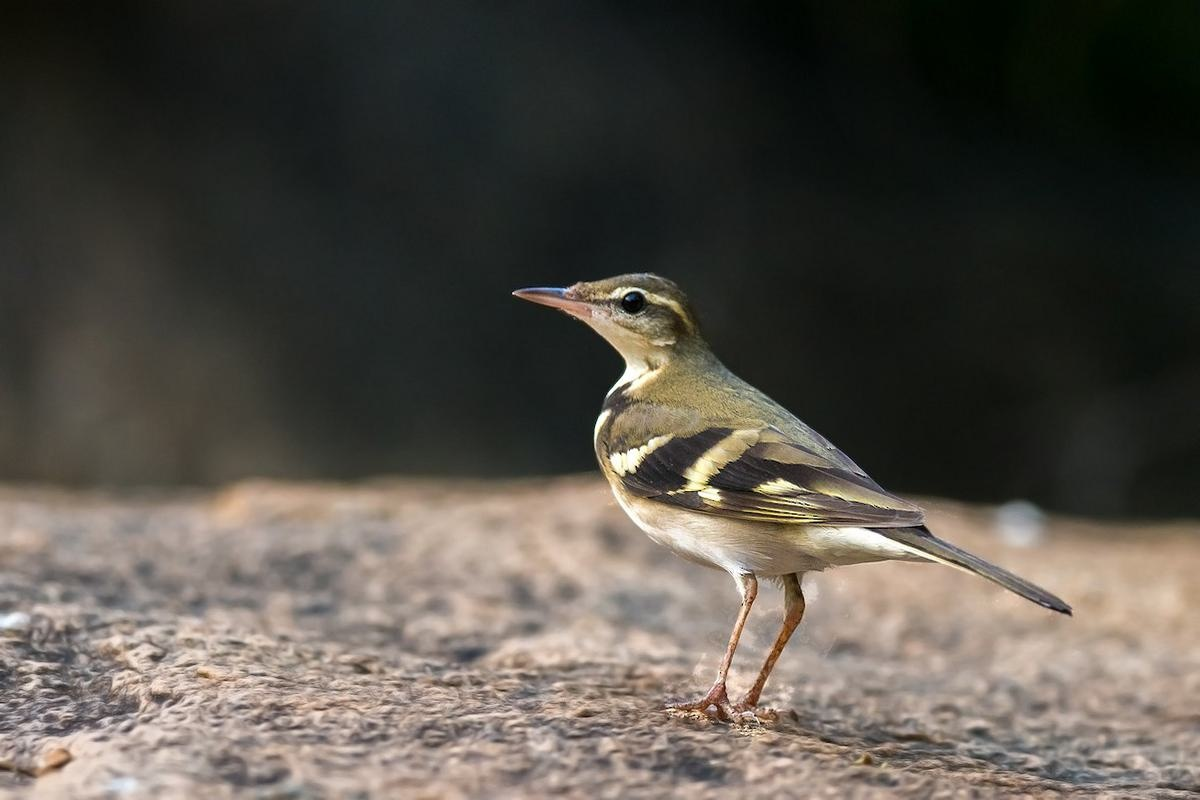wagtail: (518, 261, 995, 722)
